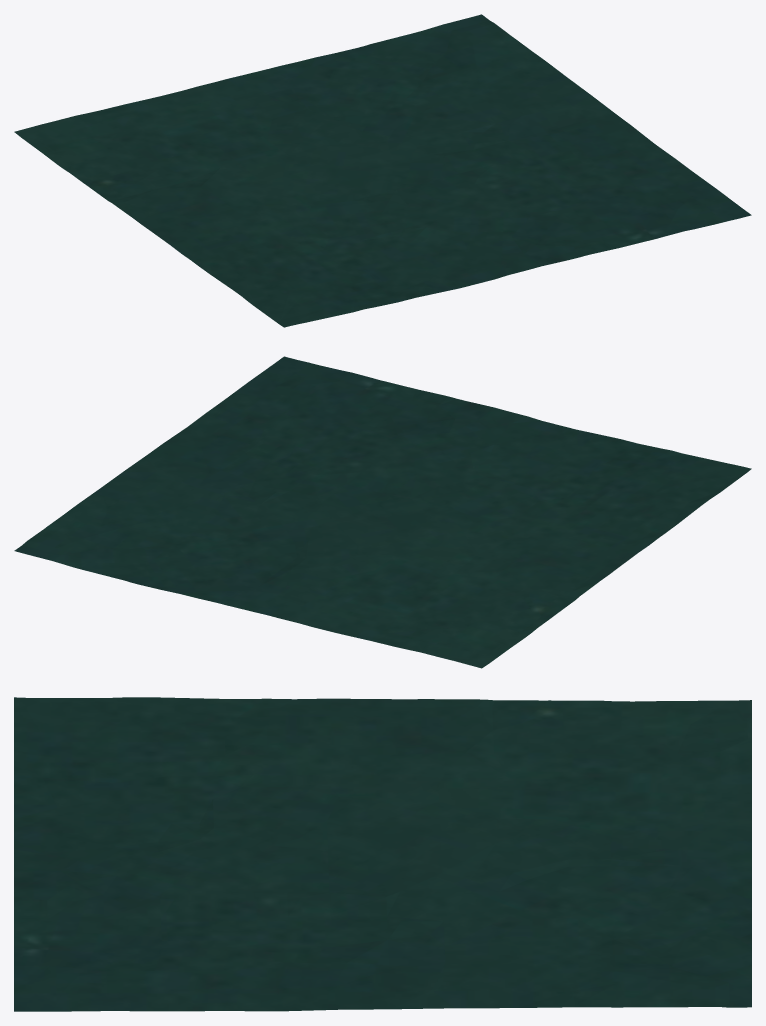
3 renders of one model, top to bottom at view 1: azimuth 30°, elevation 25°; view 2: azimuth 150°, elevation 25°; view 3: azimuth 270°, elevation 25°, orthographic. The views are drawn at different scales.
Bounding box in the file's own units: 52.22 × 0.5824 × 52.22.
Materials: 2 (2 with a texture image).
